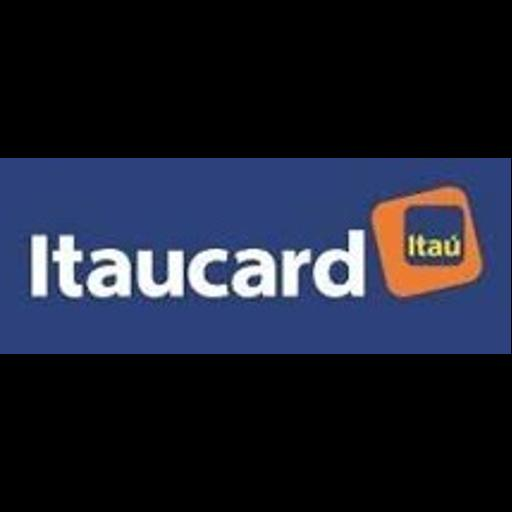Itau Unibanco S-A: (0, 158, 511, 354)
